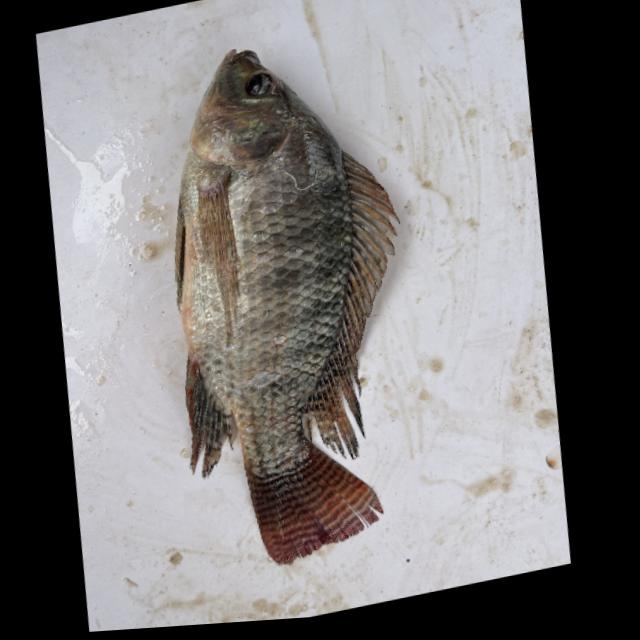Tilapia: (125, 14, 453, 590)
